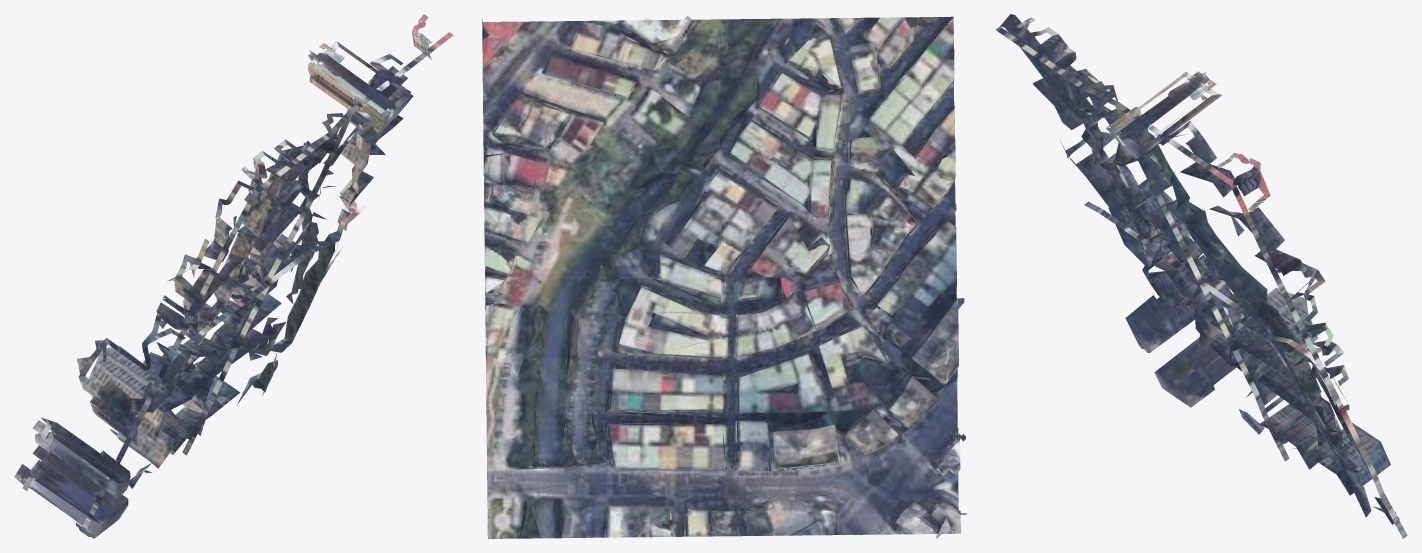
The picture shows the model from 3 angles, left to right: view 1: azimuth 30°, elevation 25°; view 2: azimuth 150°, elevation 25°; view 3: azimuth 270°, elevation 25°; orthographic projection. The views are drawn at different scales.
Size of the model in its own units: 328 by 305 by 259.
Materials: 1 (1 with a texture image).
